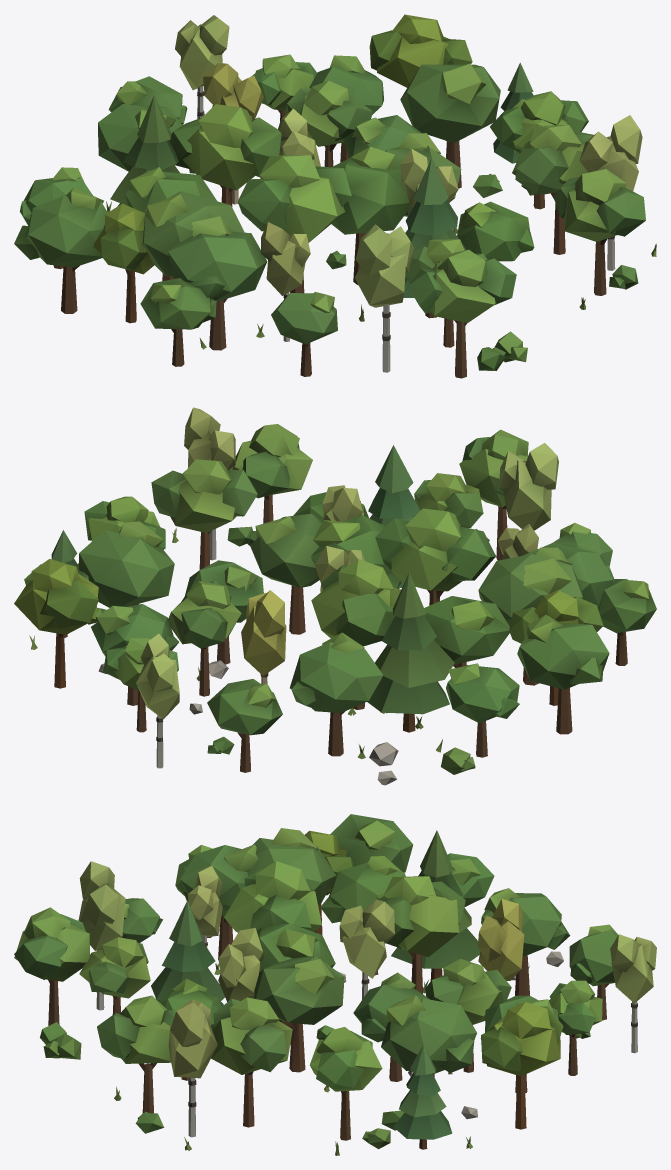
Rendered from forest_mixed_a.glb.
3 views of the same model, one above another, from view 1: azimuth 30°, elevation 25°; view 2: azimuth 150°, elevation 25°; view 3: azimuth 270°, elevation 25° (orthographic). The views are drawn at different scales.
Visible parts, largest first — view 1: forest_mixed_a; view 2: forest_mixed_a; view 3: forest_mixed_a.
Boxes of the visible parts, bbox=[...] form: forest_mixed_a: bbox=[14, 14, 656, 378]; forest_mixed_a: bbox=[14, 407, 656, 785]; forest_mixed_a: bbox=[14, 814, 656, 1155].
Bounding box in the file's own units: 17.14 × 4.84 × 18.05.
